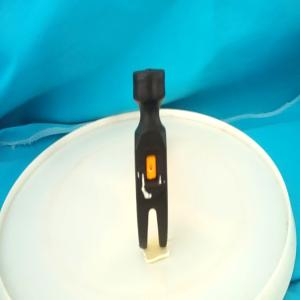martelo: (132, 68, 169, 250)
